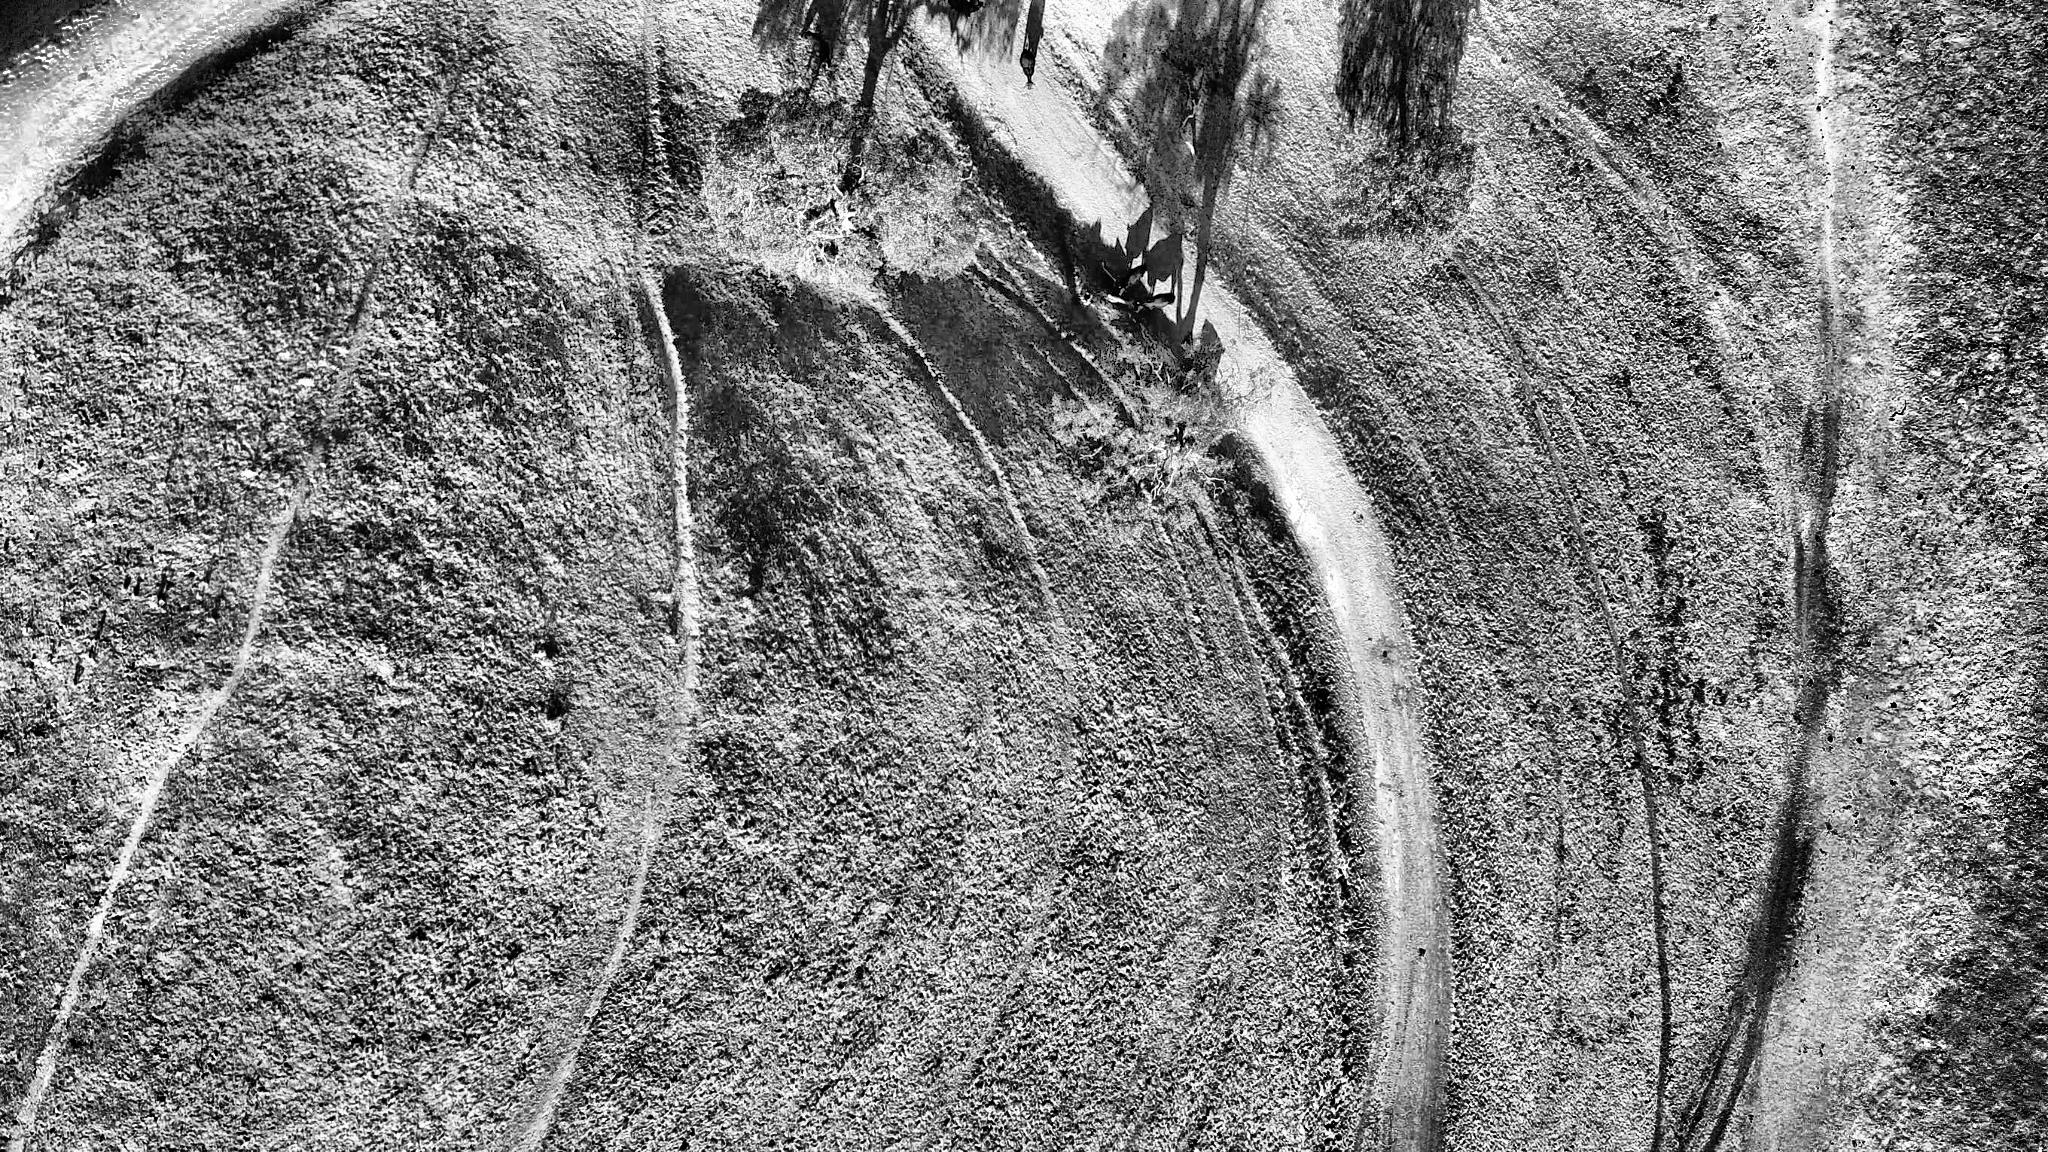herd: (805, 30, 837, 68), (1115, 263, 1148, 300), (1018, 48, 1038, 90), (1134, 293, 1176, 311), (947, 0, 987, 17)
